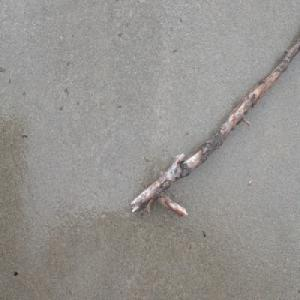Wood: (129, 38, 300, 218)
